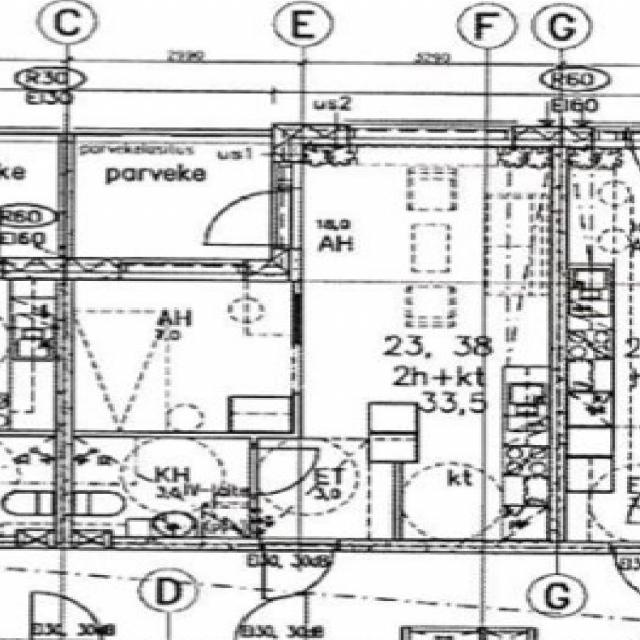door: (199, 191, 304, 246), (264, 537, 331, 602), (248, 448, 318, 493)
